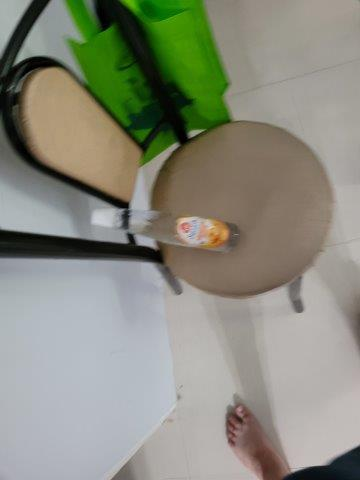botolkaca: (92, 208, 240, 257)
